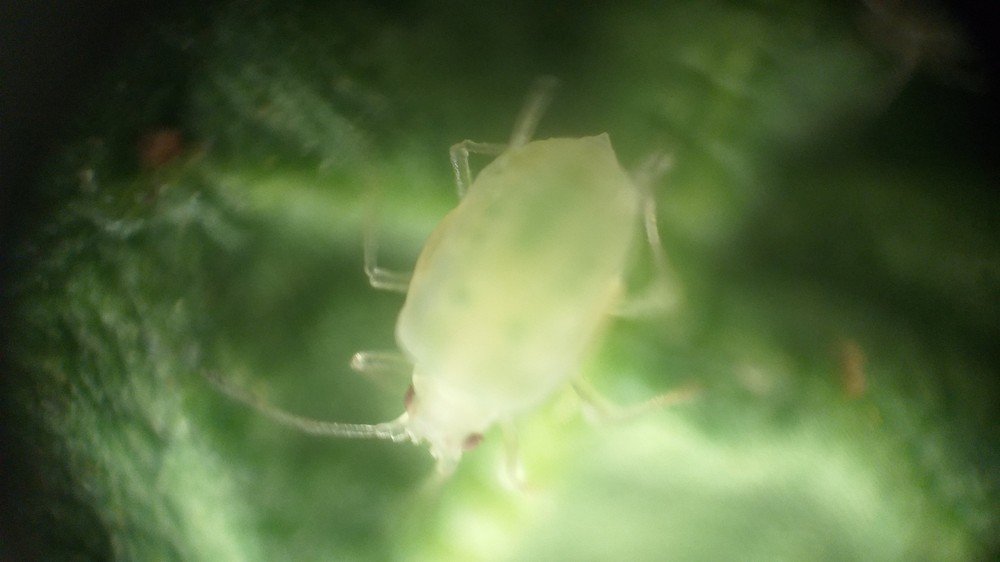Pulgon: (217, 54, 772, 559)
